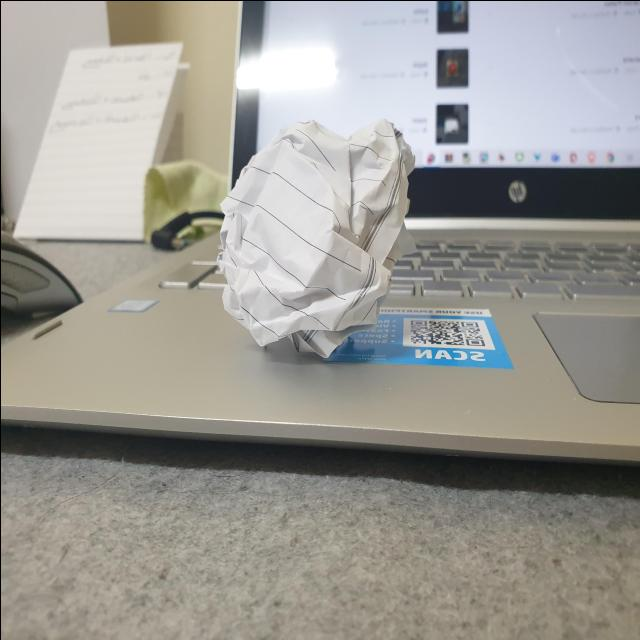kertas: (208, 106, 436, 364)
